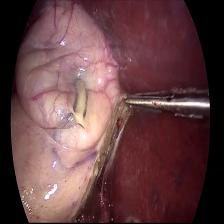Grasper: (123, 86, 213, 116)
